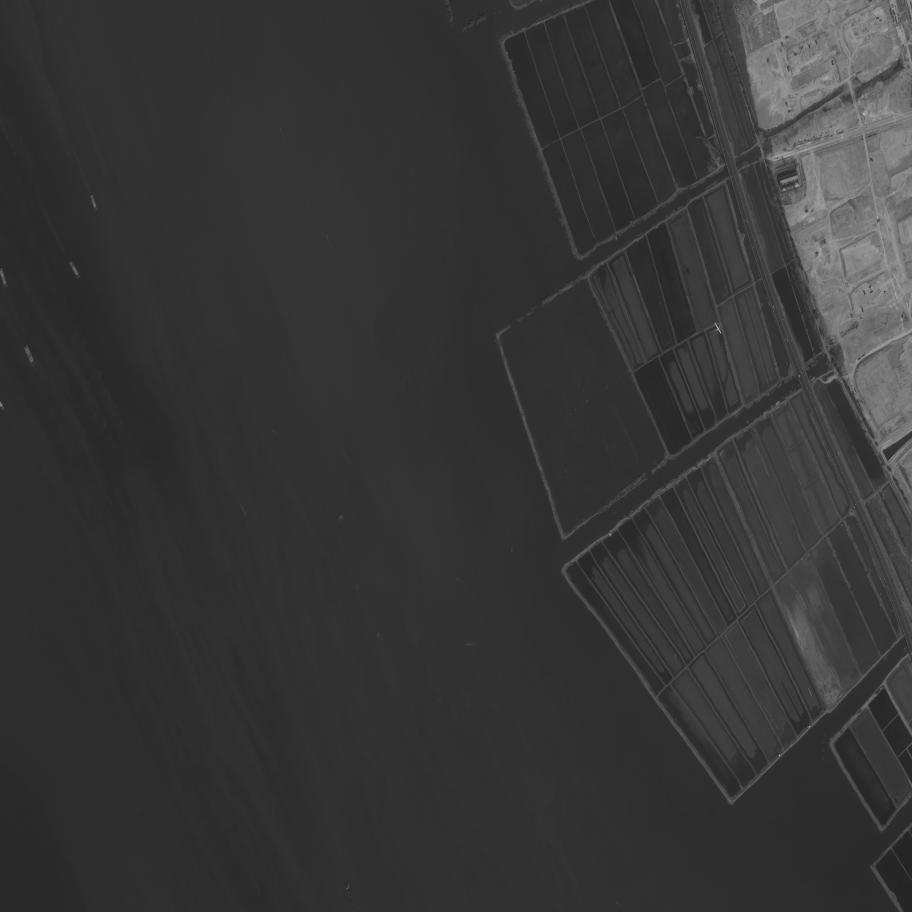ship: (23, 344, 36, 365), (68, 260, 81, 279), (345, 883, 353, 905), (0, 268, 7, 287), (90, 195, 98, 211), (810, 376, 816, 382), (548, 837, 554, 842), (325, 233, 329, 240), (337, 516, 342, 521), (614, 900, 619, 905), (339, 514, 343, 520), (611, 511, 616, 515), (356, 583, 359, 589), (279, 127, 282, 133), (454, 576, 458, 580), (377, 632, 379, 638), (465, 643, 469, 646), (809, 376, 812, 380), (342, 514, 344, 519), (511, 547, 513, 552), (798, 383, 799, 388)
